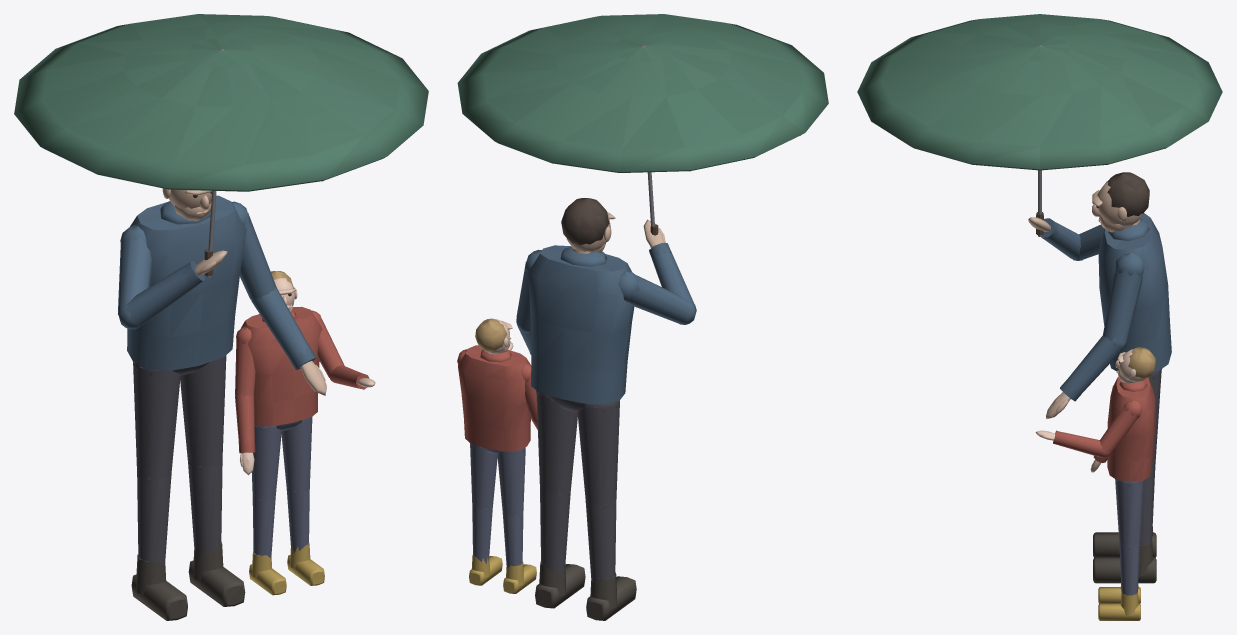
File: storm_crowd_sheltering_a.glb
3 renders of one model, left to right at view 1: azimuth 30°, elevation 25°; view 2: azimuth 150°, elevation 25°; view 3: azimuth 270°, elevation 25°, orthographic. The views are drawn at different scales.
Parts seen in each view (by area): view 1: body; view 2: body; view 3: body.
Boxes of the visible parts, <box> form: body: <box>14,14,428,620</box>; body: <box>457,14,828,620</box>; body: <box>857,14,1222,620</box>.
Bounding box in the file's own units: 1.44 × 2.25 × 1.44.
